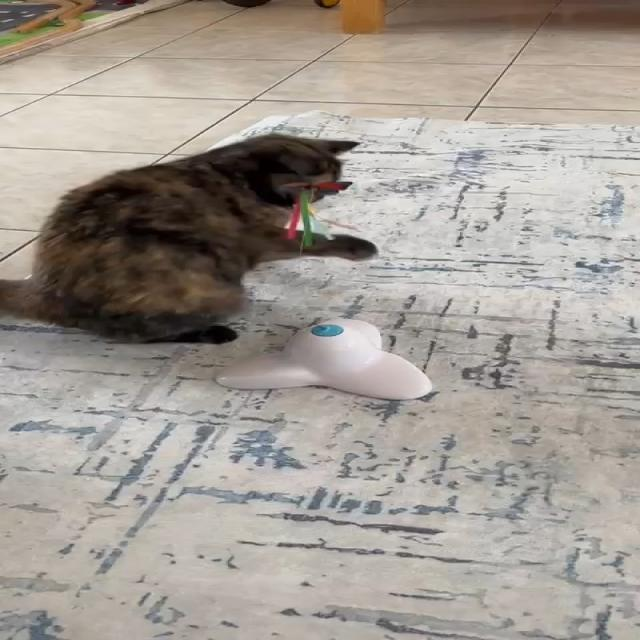authorized: (0, 131, 379, 345)
